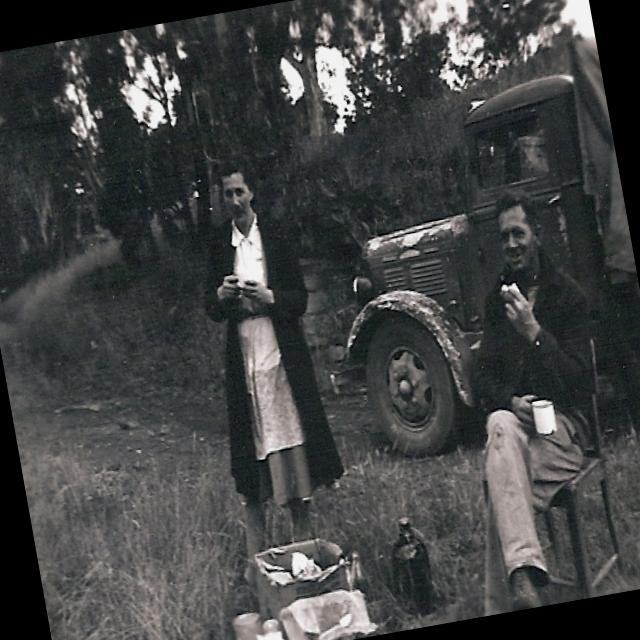Vehicle: (278, 31, 640, 471)
